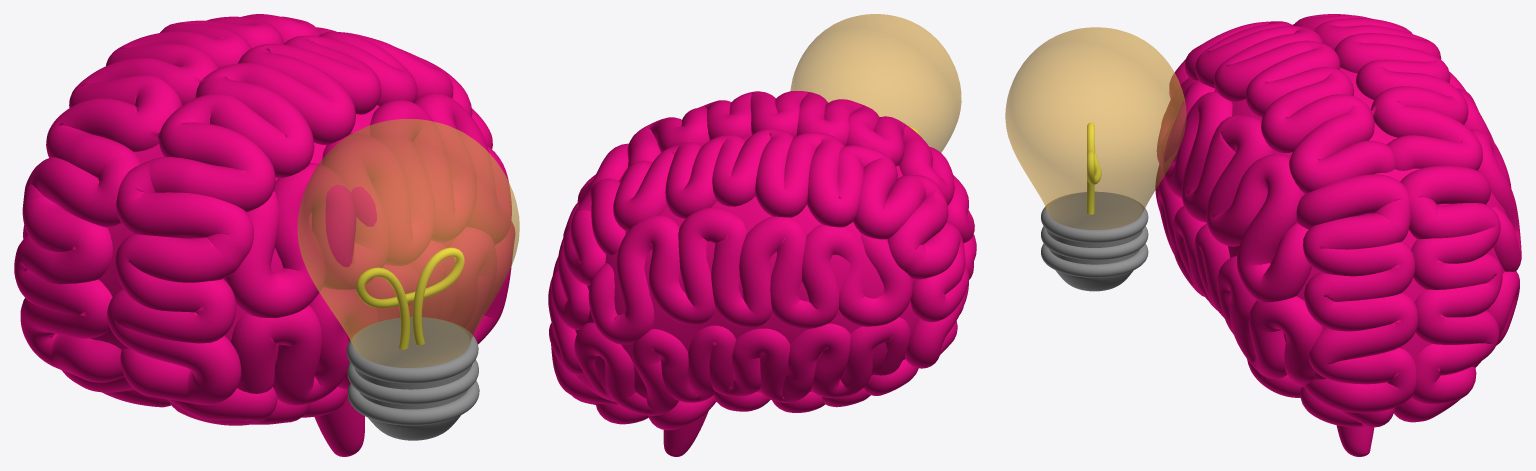
The model's file is brain.element.glb.
3 views of the same model, side by side, from view 1: azimuth 30°, elevation 25°; view 2: azimuth 150°, elevation 25°; view 3: azimuth 270°, elevation 25° (orthographic). The views are drawn at different scales.
Visible parts, largest first — view 1: BezierCurve, Sphere, Cylinder.001, BezierCurve.001, Circle, Cube, Circle.002, Circle.001, Cylinder; view 2: BezierCurve, Sphere, Cube, Cylinder; view 3: BezierCurve, Sphere, Cylinder.001, Cube, Circle, Circle.002, Circle.001, Cylinder, BezierCurve.001.
Part boxes in pixels (x1,y1,x2,y2): BezierCurve: (14, 14, 515, 425); Sphere: (297, 119, 519, 367); Cylinder.001: (354, 318, 471, 440); BezierCurve.001: (356, 247, 464, 349); Circle: (346, 317, 478, 383); Cube: (90, 105, 454, 364); Circle.002: (347, 380, 479, 425); Circle.001: (347, 359, 478, 404); Cylinder: (314, 396, 364, 456); BezierCurve: (548, 91, 976, 430); Sphere: (790, 14, 961, 152); Cube: (575, 135, 919, 402); Cylinder: (663, 411, 708, 456); BezierCurve: (1155, 14, 1521, 427); Sphere: (1005, 27, 1186, 229); Cylinder.001: (1046, 192, 1142, 291); Cube: (1206, 67, 1507, 398); Circle: (1041, 192, 1148, 242); Circle.002: (1041, 243, 1148, 277); Circle.001: (1041, 226, 1148, 260); Cylinder: (1336, 425, 1374, 456); BezierCurve.001: (1087, 122, 1101, 214).
Bounding box in the file's own units: 2.98 × 2.76 × 3.39.
